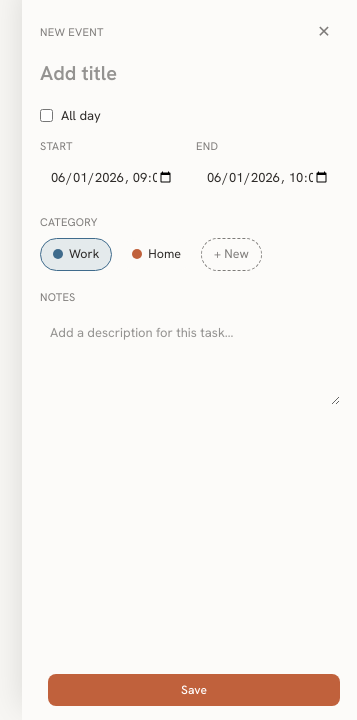
Test case: EventInspector › does not save when title is empty
Click the button "Save" at coordinates (194, 690), box [48,674,340,706]
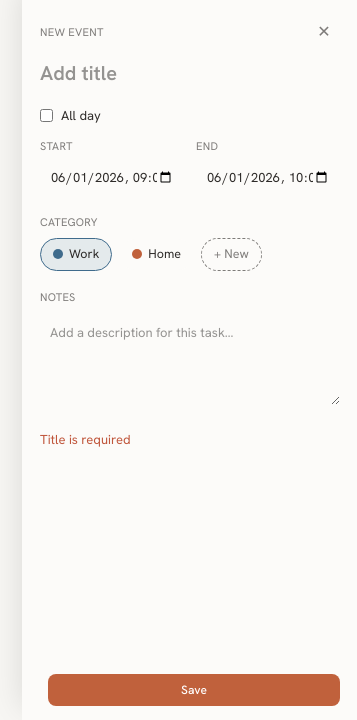
Check: the text "Title is required" is shown, box [40,431,130,448]
